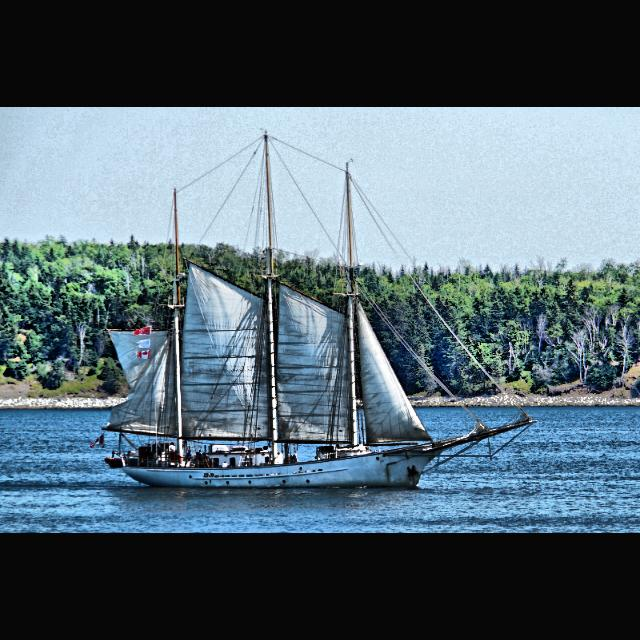sailing_vessel: (100, 128, 538, 488)
